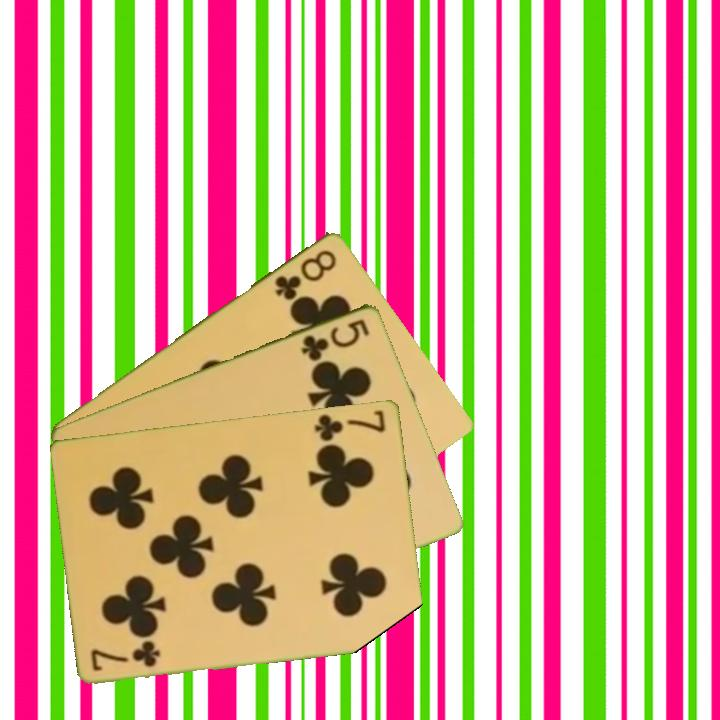5c: (298, 314, 373, 364)
7c: (311, 406, 388, 444), (88, 638, 164, 673)
8c: (271, 245, 340, 303)
